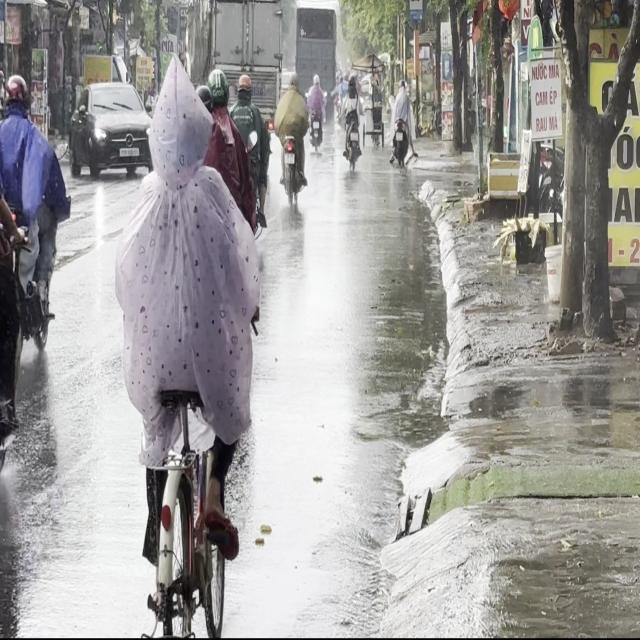helmet: (3, 72, 29, 117)
licenseplate: (0, 68, 70, 376), (0, 28, 27, 537)
